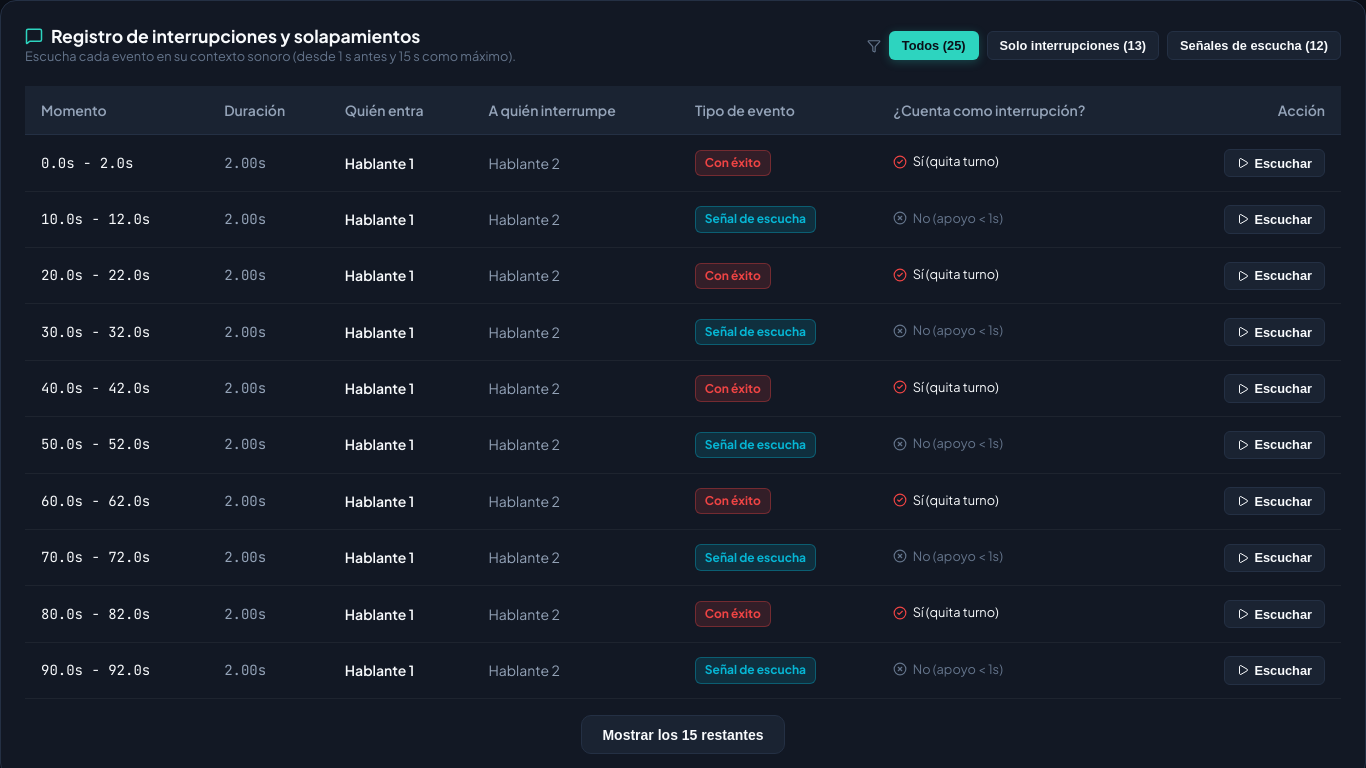
registro de interrupciones › con muchos eventos enseña solo los primeros y el resto, a petición
What coordinates should you click on to do the following:
click the button "Mostrar los 15 restantes"
I would click on:
 (683, 734)
Its box is [582,715,785,754].
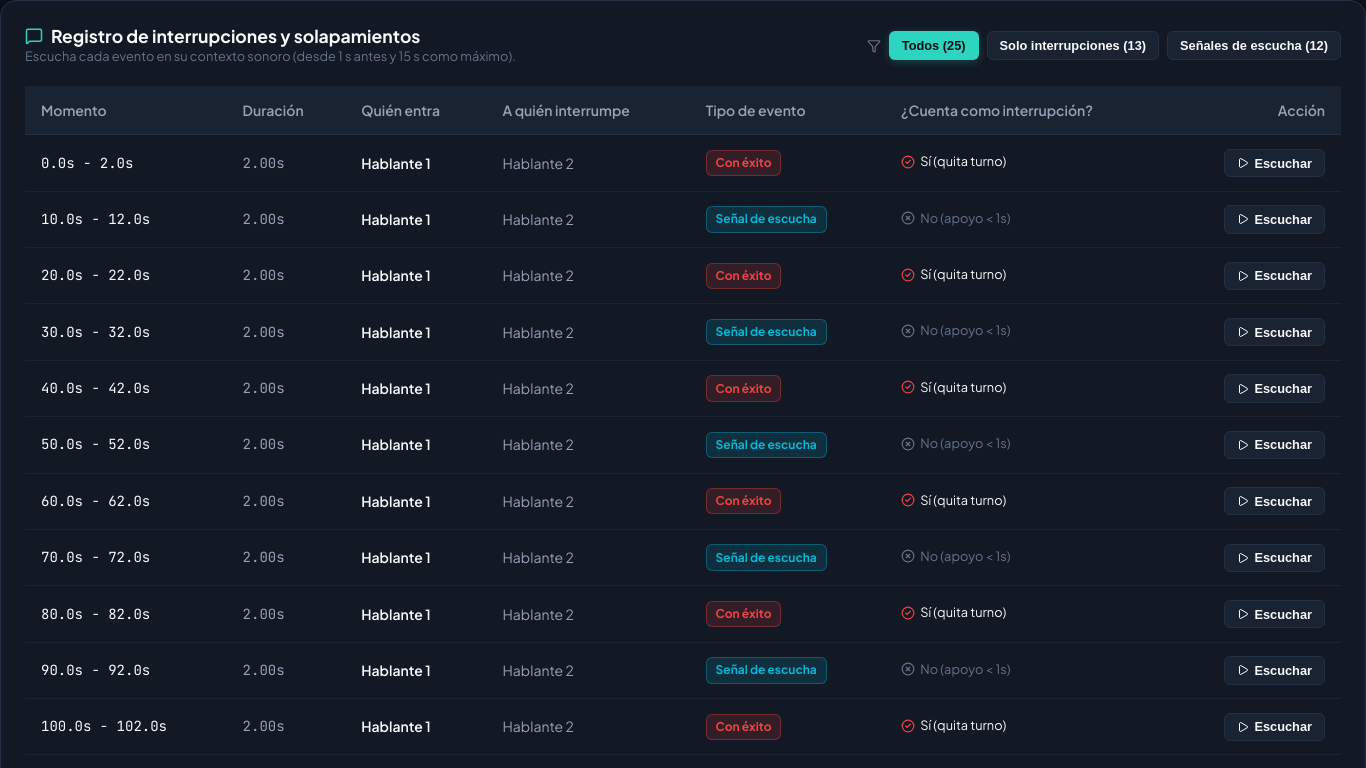
Expected: the button "Mostrar los" is gone
